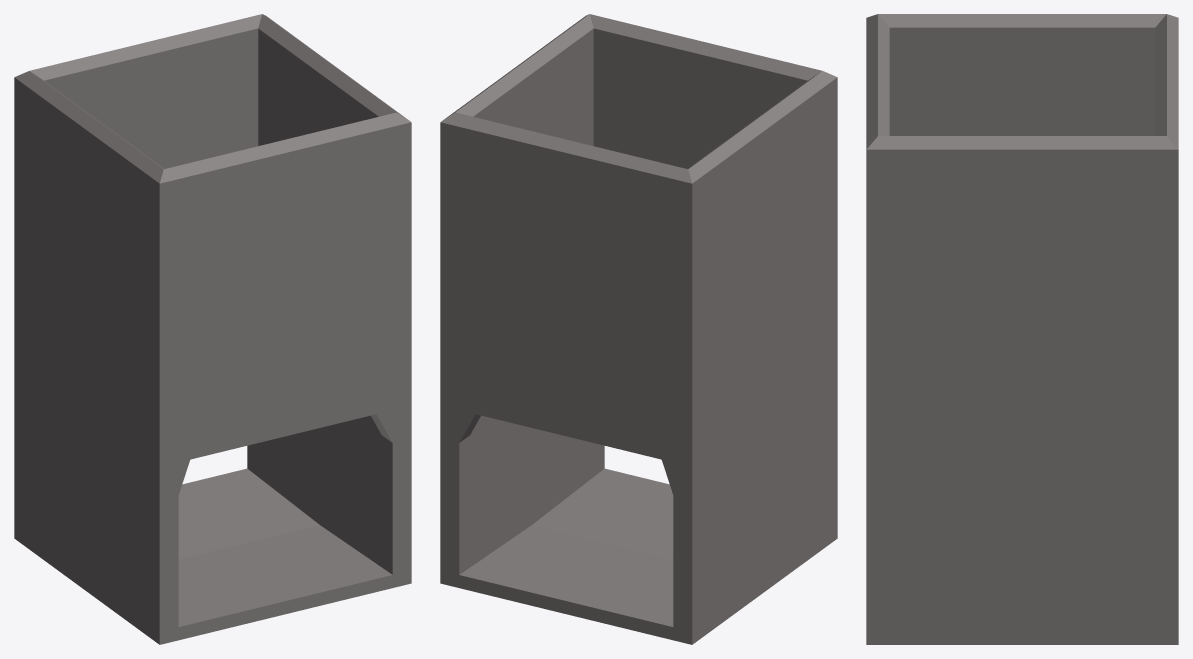
File: steel-reinforcement.glb
3 views of the same model, side by side, from view 1: azimuth 30°, elevation 25°; view 2: azimuth 150°, elevation 25°; view 3: azimuth 270°, elevation 25° (orthographic). The views are drawn at different scales.
Parts seen in each view (by area): view 1: steel-reinforcement; view 2: steel-reinforcement; view 3: steel-reinforcement.
Part boxes in pixels (x1,y1,x2,y2): steel-reinforcement: (14,14,411,644); steel-reinforcement: (440,14,837,644); steel-reinforcement: (866,14,1178,644).
Bounding box in the file's own units: 0.4 × 0.7183 × 0.4.
1 material, 1 textured.
